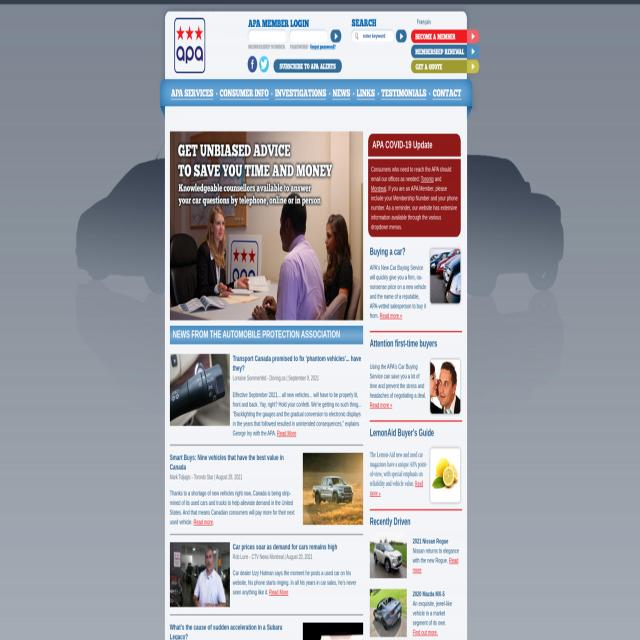button: (170, 130, 363, 321), (170, 354, 230, 426), (303, 453, 363, 525), (170, 542, 230, 607), (169, 14, 209, 76), (428, 246, 462, 307), (428, 356, 462, 417), (428, 445, 462, 506), (369, 588, 406, 638), (369, 533, 406, 578), (273, 58, 342, 74), (303, 622, 363, 640), (380, 82, 428, 104), (273, 84, 328, 103), (219, 83, 270, 103), (411, 44, 479, 59), (411, 60, 479, 74), (411, 30, 479, 43), (169, 84, 215, 102), (431, 82, 464, 104), (354, 85, 377, 104), (331, 84, 352, 102), (259, 56, 269, 72), (331, 29, 342, 43), (248, 56, 257, 72), (396, 29, 406, 43)
field: (248, 29, 286, 45), (289, 29, 328, 44), (352, 30, 394, 43)
